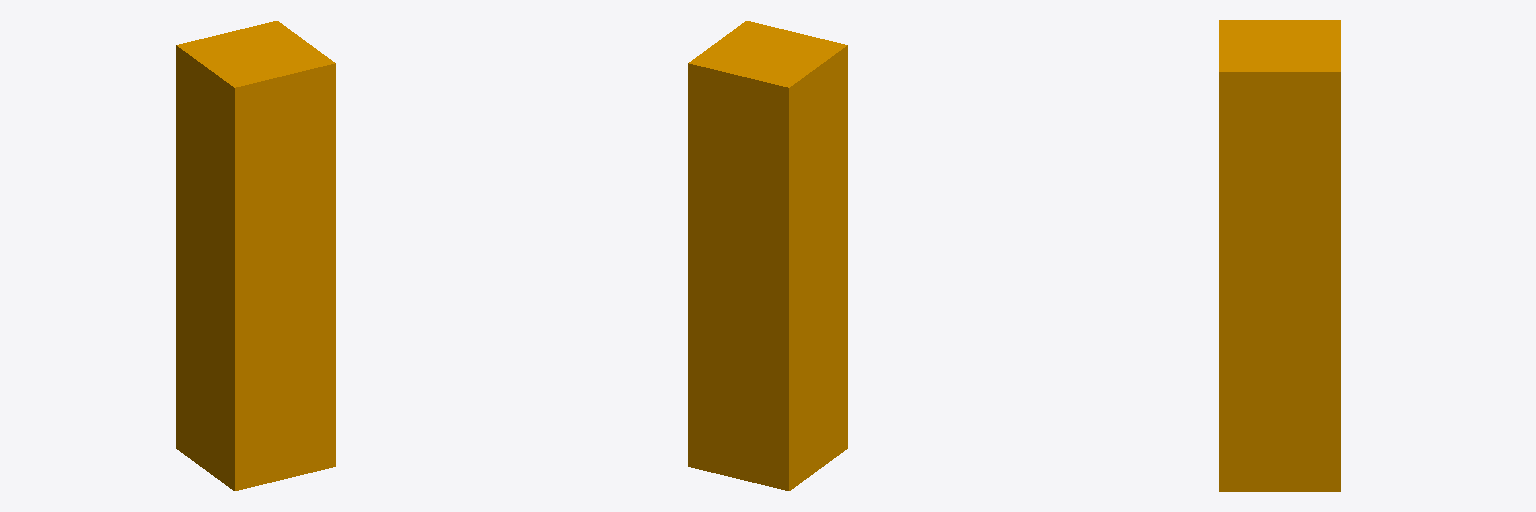
The robot description file, URDF, robot "chesspiece":
<robot name="chesspiece">
  <link name="my_cylinder">
    <inertial>
      <mass value="0.2" />
      <!-- center of mass (com) is defined w.r.t. link local coordinate system -->
      <origin xyz="0 0 0" /> 
      <inertia  ixx="0.01" ixy="0.0"  ixz="0.0"  iyy="0.01"  iyz="0.0"  izz="0.01" />
    </inertial>
    <visual>
      <!-- visual origin is defined w.r.t. link local coordinate system -->
      <origin xyz="0 0 0.01905" rpy="0 0 0" />
      <geometry>
        <box size="0.01 0.01 0.0381" />
      </geometry>
    </visual>
    <collision>
      <!-- collision origin is defined w.r.t. link local coordinate system -->
      <origin xyz="0 0 0.01905" rpy="0 0 0 " />
      <geometry>
        <box size="0.01 0.01 0.0381" />
      </geometry>
    </collision>
  </link>
  <gazebo reference="my_cylinder">
    <material>Gazebo/White</material>
    <turnGravityOff>false</turnGravityOff>
    <mu1>1000.0</mu1>
    <mu2>1000.0</mu2>
    <kp>10000000.0</kp>
    <kd>1.0</kd>
  </gazebo>
</robot>

--- Facts derived from the render (not from the file) ---
3 views of the same robot in one strip: view 1: azimuth 30°, elevation 25°; view 2: azimuth 150°, elevation 25°; view 3: azimuth 270°, elevation 25° (orthographic).
Robot: chesspiece — 1 links, 0 joints (none); root link my_cylinder; default pose: all joints at 0.
Visible links, largest first — view 1: my_cylinder; view 2: my_cylinder; view 3: my_cylinder.
Link boxes in pixels (x1,y1,x2,y2): my_cylinder: (176,21,335,490); my_cylinder: (688,21,847,490); my_cylinder: (1219,20,1340,491).
Bounding box of the posed robot: 0.01 × 0.01 × 0.0381 m (x, y, z).
Geometry: primitives only (box / cylinder / sphere), no mesh files.